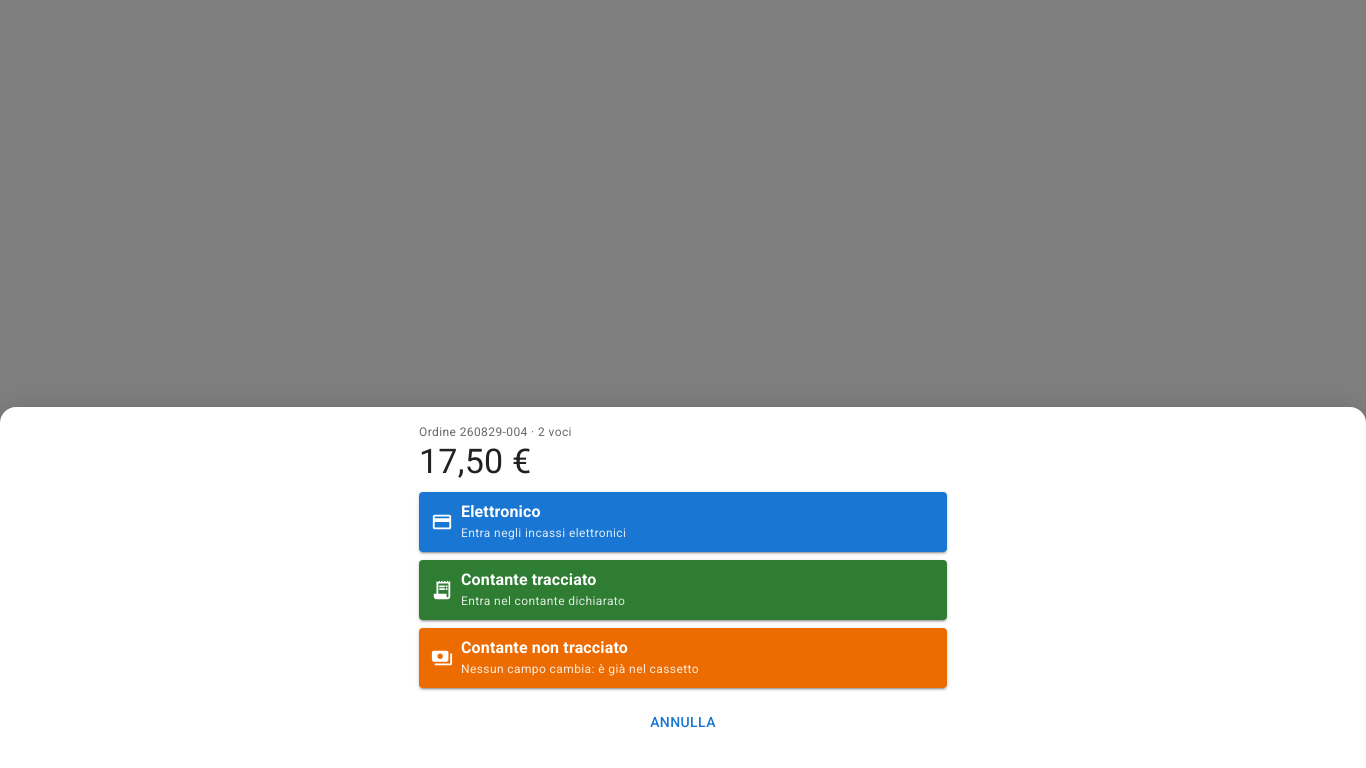
it: ChiusuraOrdine › con un ricevuto insufficiente dice quanto manca e non mostra un resto negativo
Click the text "Contante tracciato" at (529, 580), box [461,568,596,592]
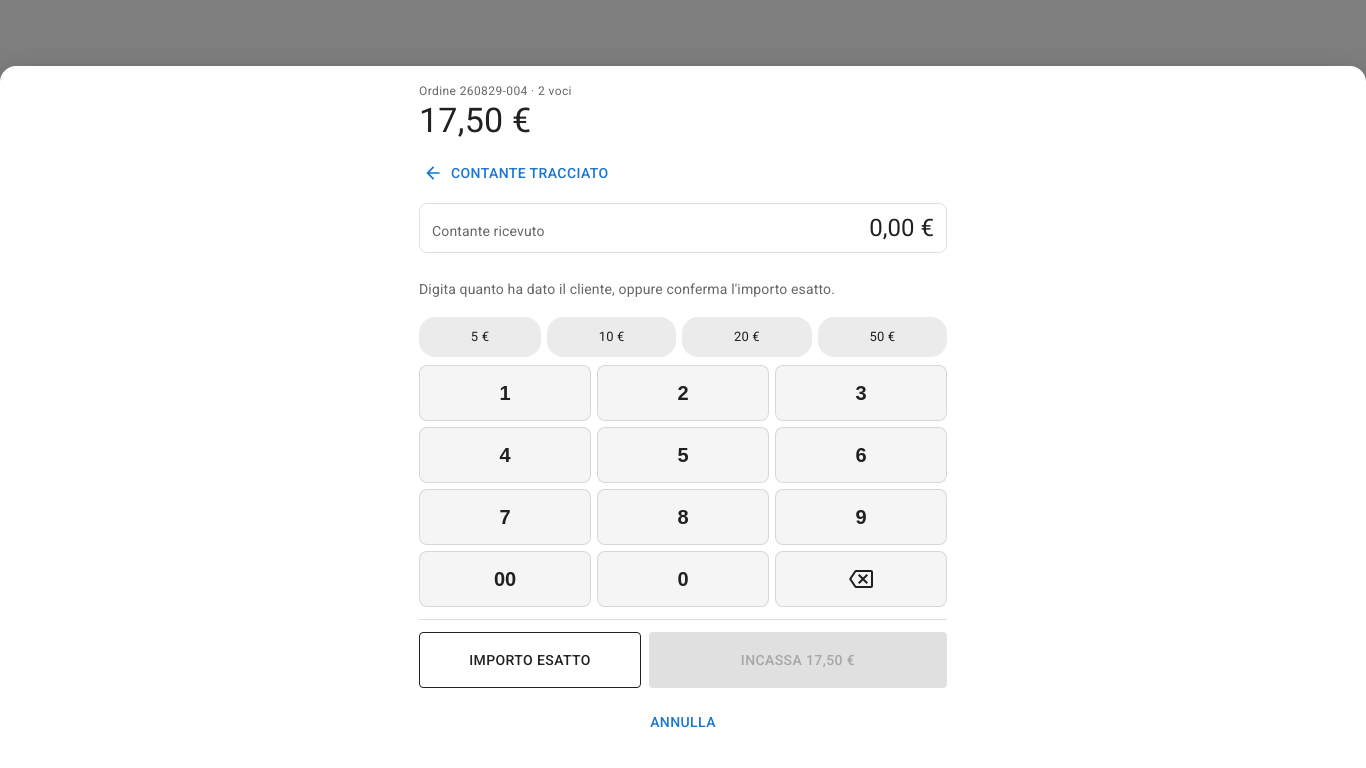
Click the button "1" at (505, 393), box [419,365,591,421]
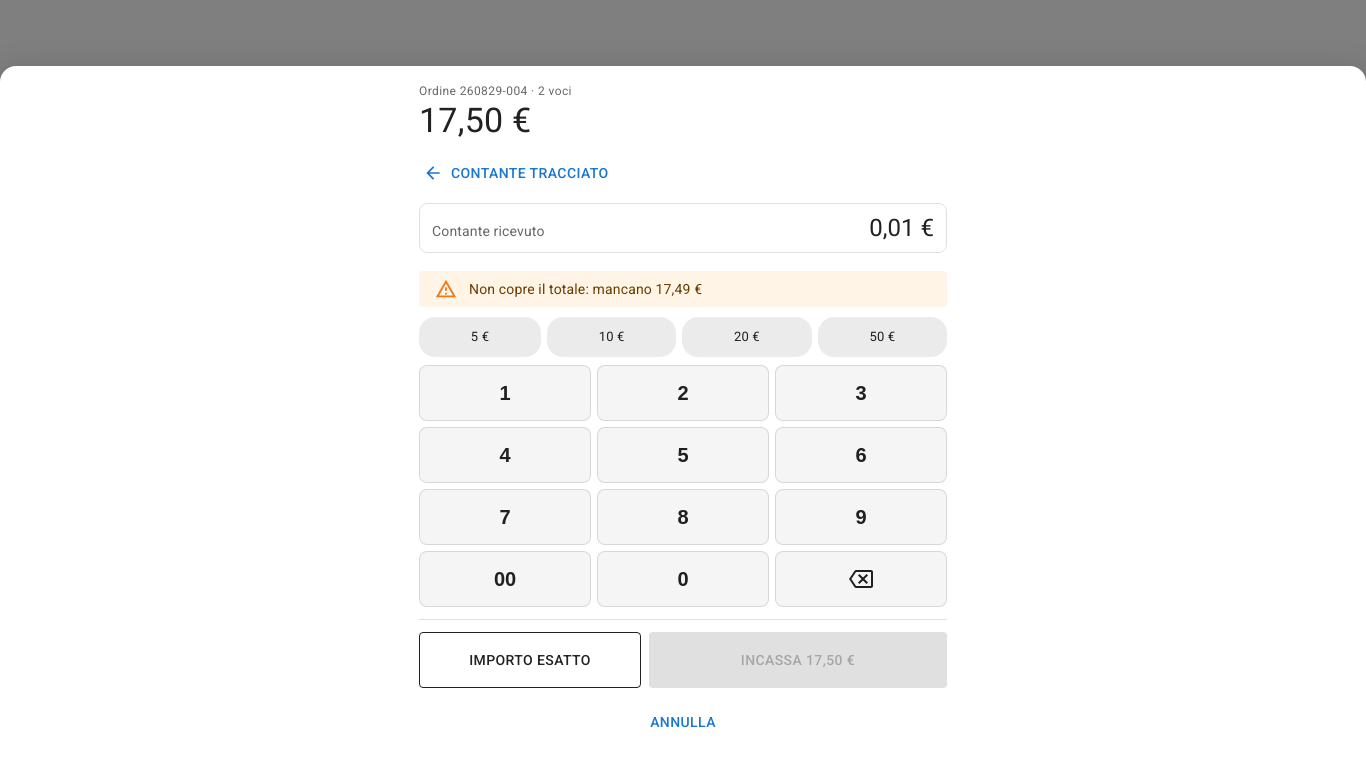
Click the button named "Cifra 5" at (683, 455), box [597,427,769,483]
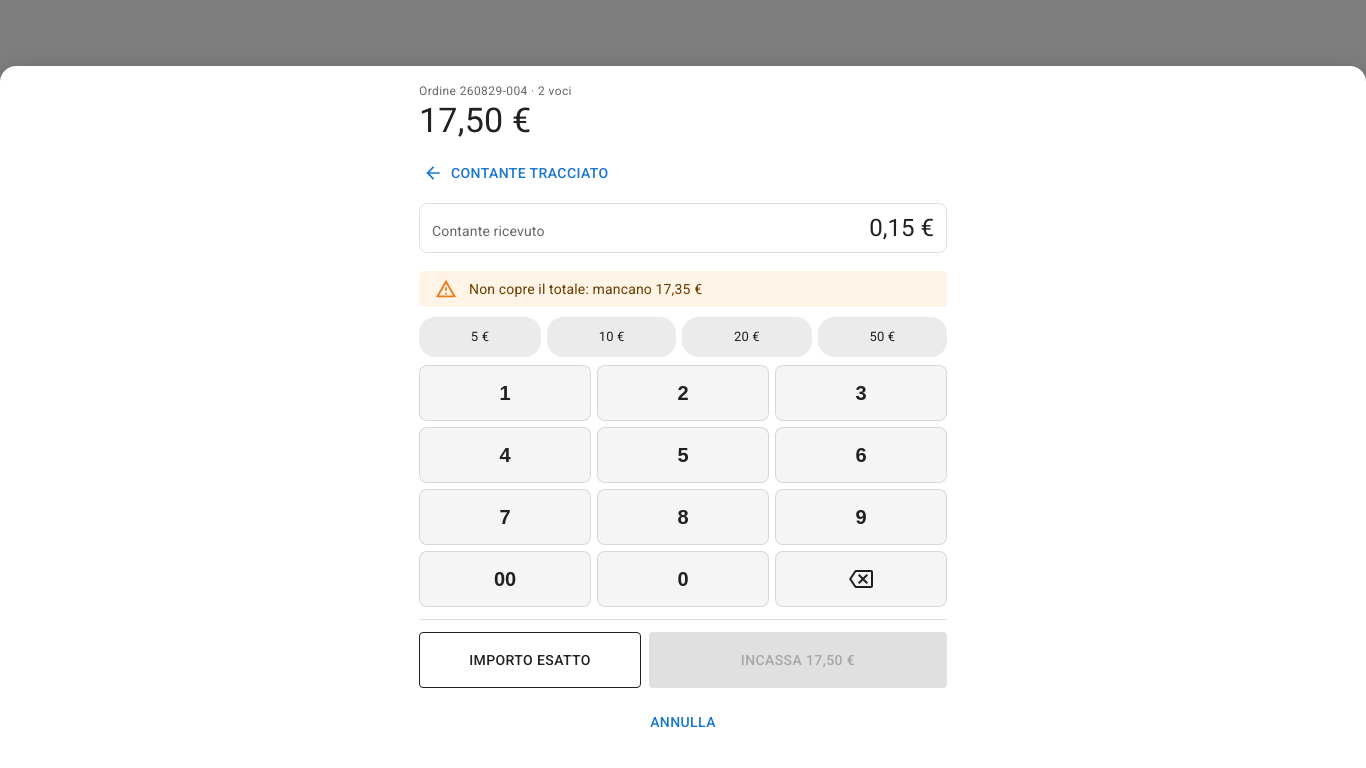
Click the button "0" at (683, 579), box [597,551,769,607]
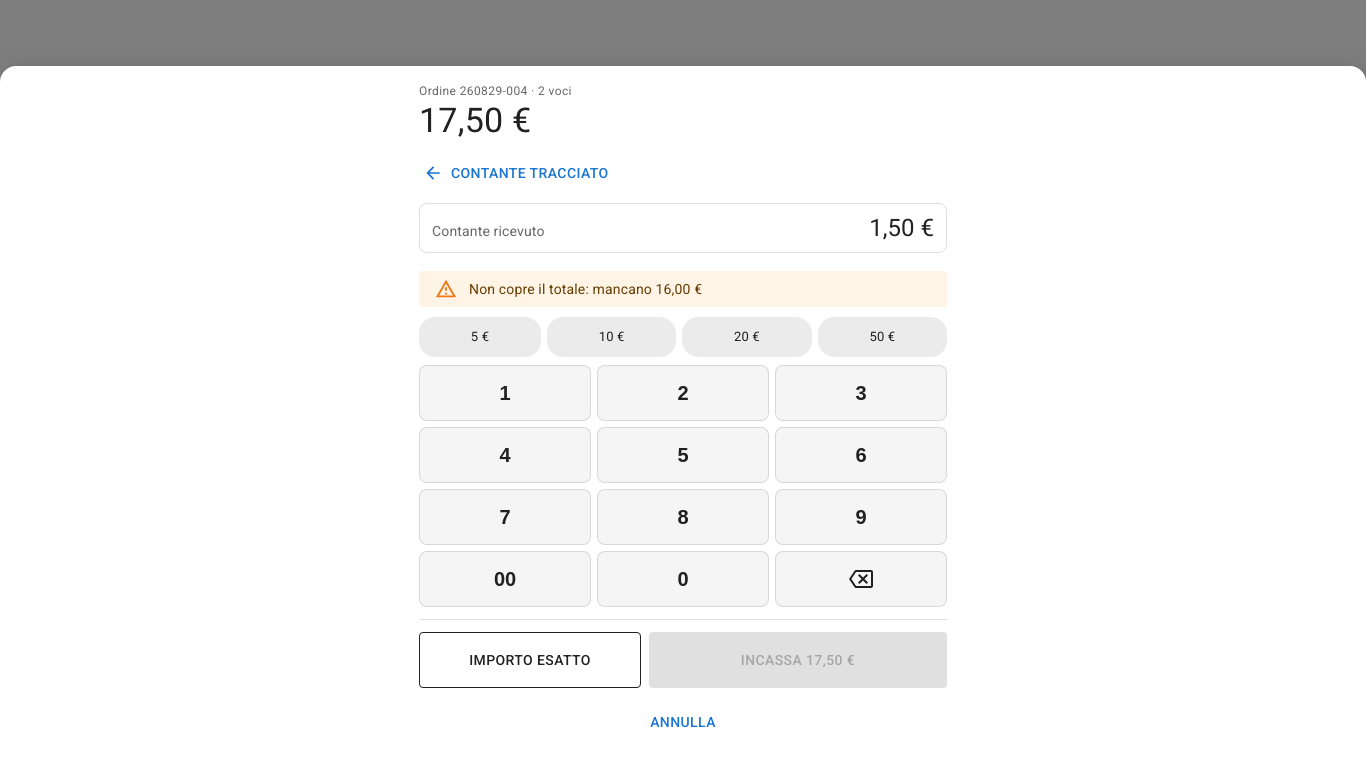
Click the button "0" at (683, 579), box [597,551,769,607]
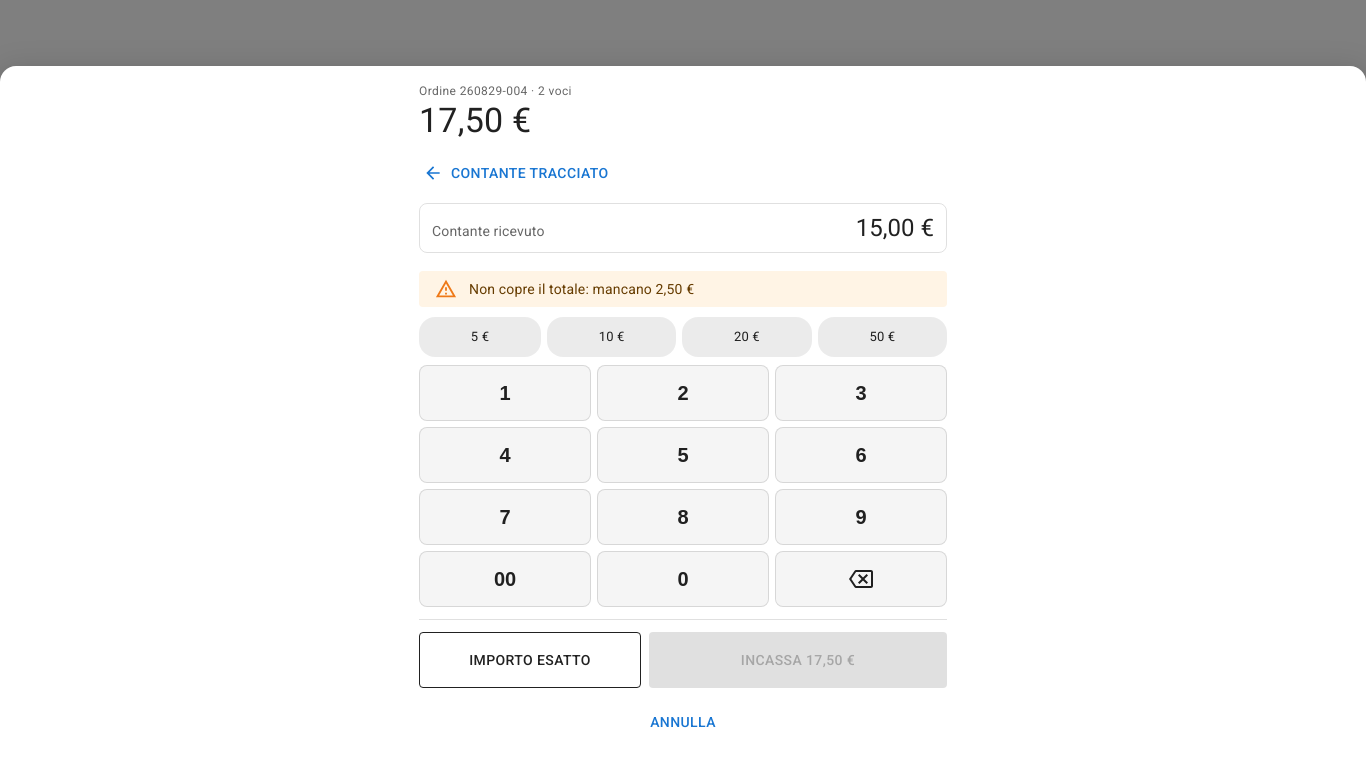
Result: the button "Incassa 17,50 €" is disabled at [649,632,947,688]
Result: the text "Non copre il totale: mancano 2,50 €" is shown at [469,281,694,297]
